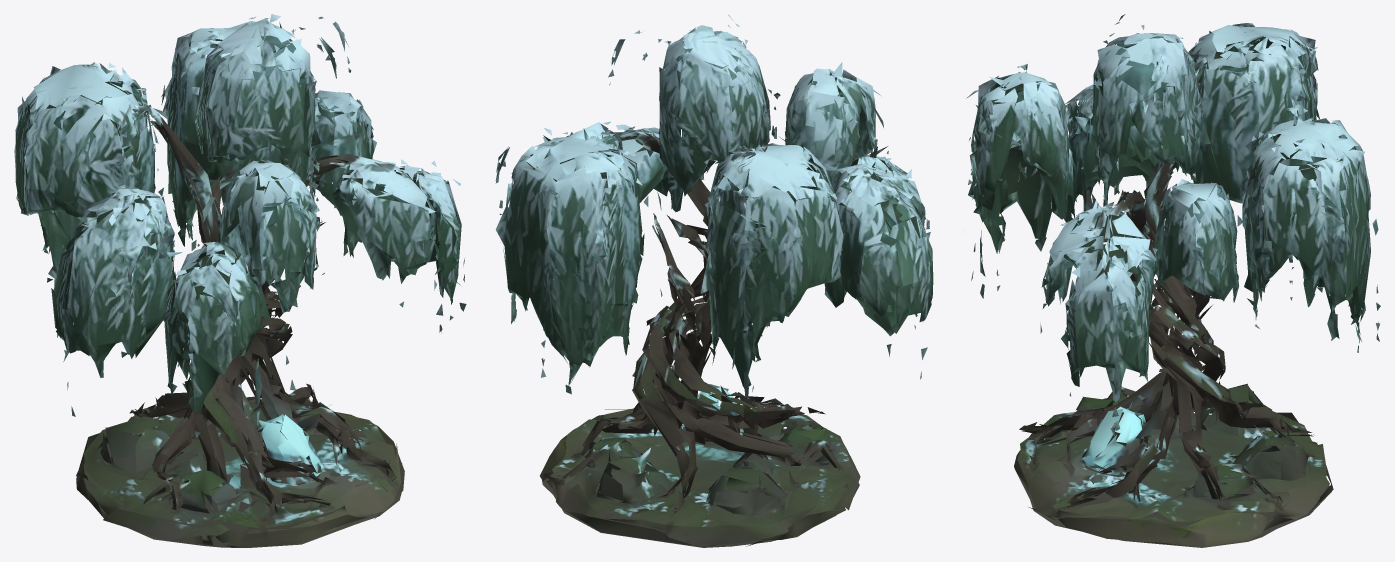
The model's file is greatWillow.glb.
3 renders of one model, left to right at view 1: azimuth 30°, elevation 25°; view 2: azimuth 150°, elevation 25°; view 3: azimuth 270°, elevation 25°, orthographic. The views are drawn at different scales.
Visible parts, largest first — view 1: greatWillow; view 2: greatWillow; view 3: greatWillow.
Part boxes in pixels (x1,y1,x2,y2): greatWillow: (14, 14, 466, 547); greatWillow: (495, 14, 933, 547); greatWillow: (966, 14, 1380, 547).
Bounding box in the file's own units: 0.8035 × 0.9012 × 0.736.
Materials: 1 (1 with a texture image).
